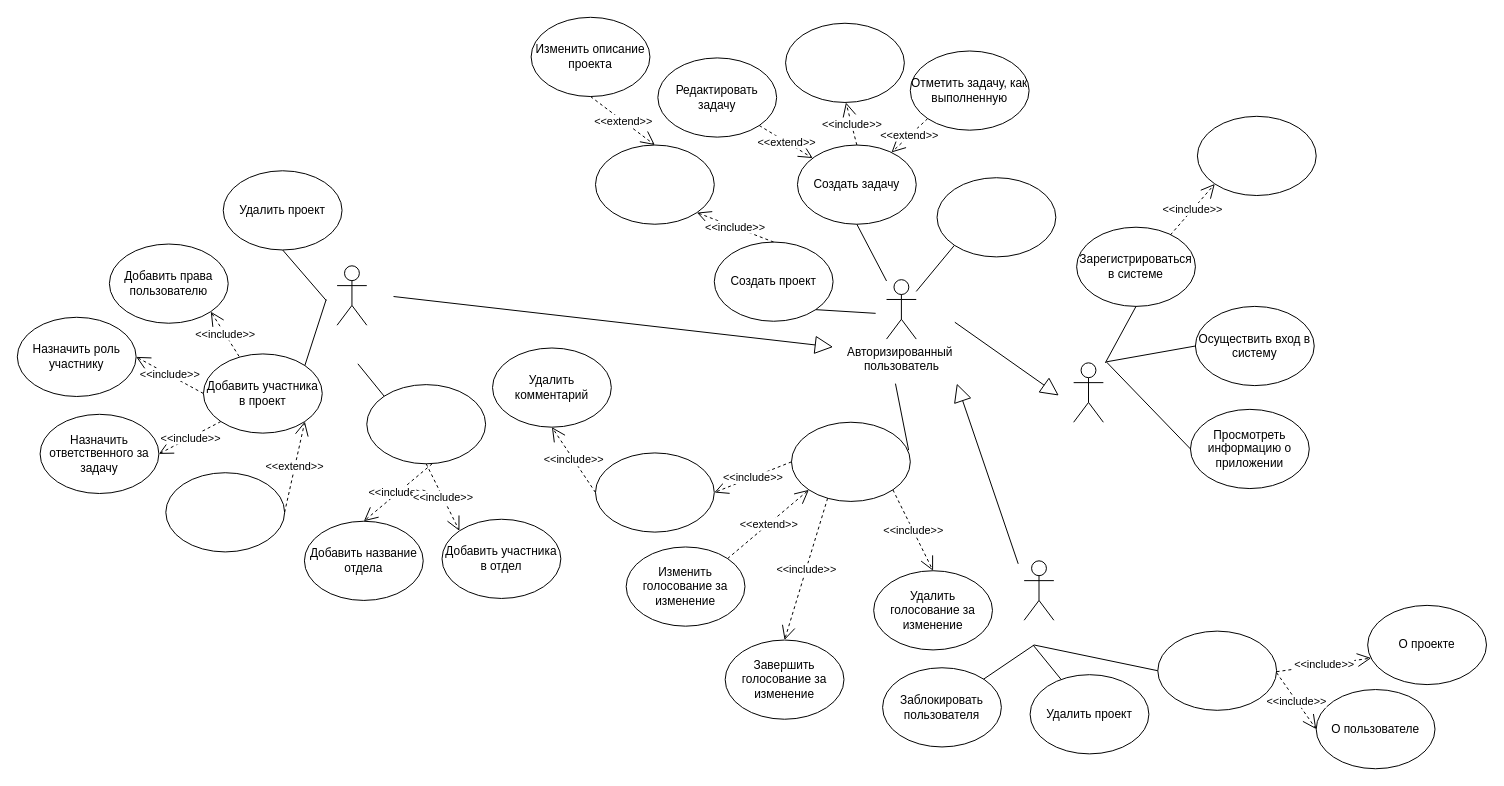
Some shapes in this 1504 by 786 pixel diagram are drawn without their labels. Here are the shapes that lost their labels. From the top down, the centre of each, then its label:
the point at 844,62: Удалить задачу
the point at 1256,155: Удалить учетную запись
the point at 654,184: Добавить описание проекта
the point at 996,217: Редактировать профиль
the point at 351,295: Создатель проекта
the point at 1088,392: Неавторизированный пользователь
the point at 426,424: Создать отдел
the point at 850,461: Создать голосование за изменение
the point at 225,512: Менять роль участнику
the point at 654,492: Добавить комментарий
the point at 1038,590: Модератор
the point at 1217,670: Просмотреть информацию
